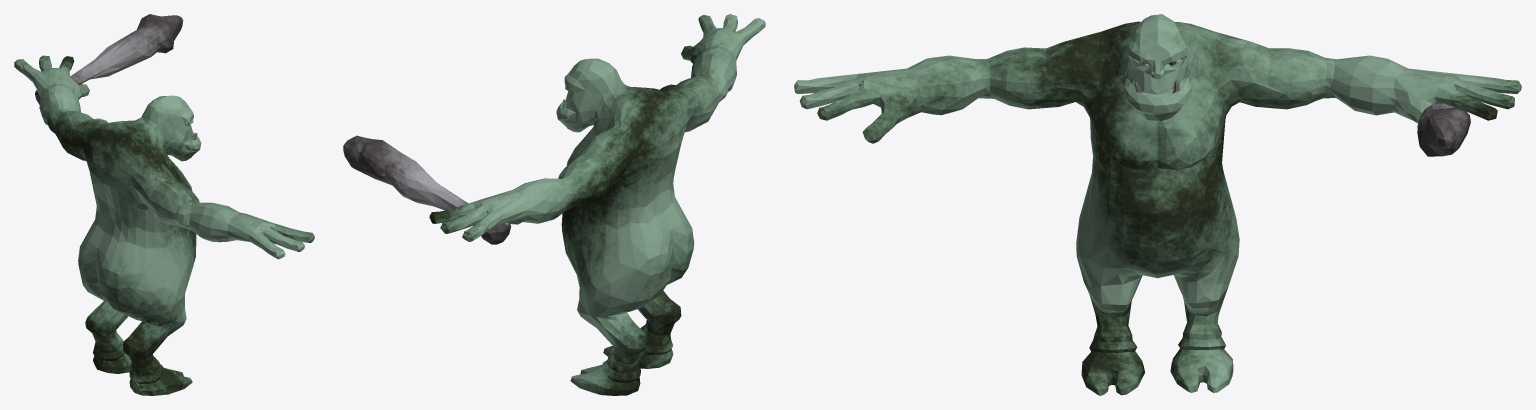
File: Огр.fbx
The picture shows the model from 3 angles, left to right: view 1: azimuth 30°, elevation 25°; view 2: azimuth 150°, elevation 25°; view 3: azimuth 270°, elevation 25°; orthographic projection. The views are drawn at different scales.
Visible parts, largest first — view 1: OgreOBJ; view 2: OgreOBJ; view 3: OgreOBJ.
Part boxes in pixels (x1,y1,x2,y2): OgreOBJ: (14,14,314,395); OgreOBJ: (343,14,765,395); OgreOBJ: (794,14,1521,395).
Bounding box in the file's own units: 0.6778 × 0.8982 × 1.58.
1 material, 1 textured.
